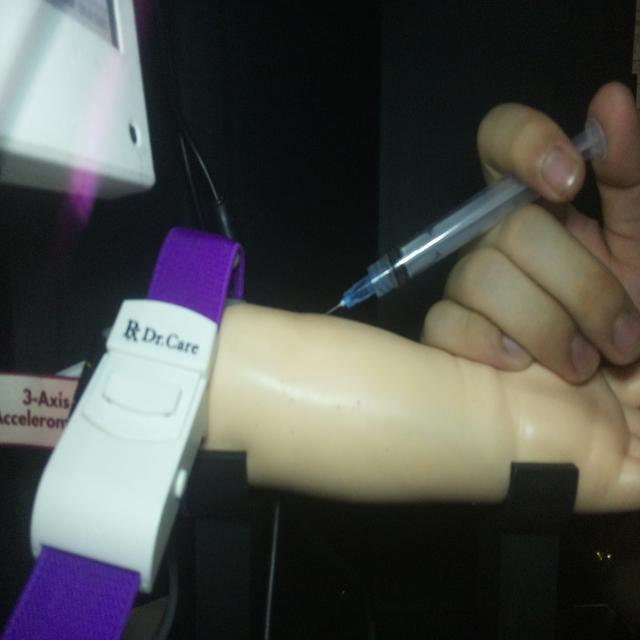26 degrees: (323, 114, 608, 317)
